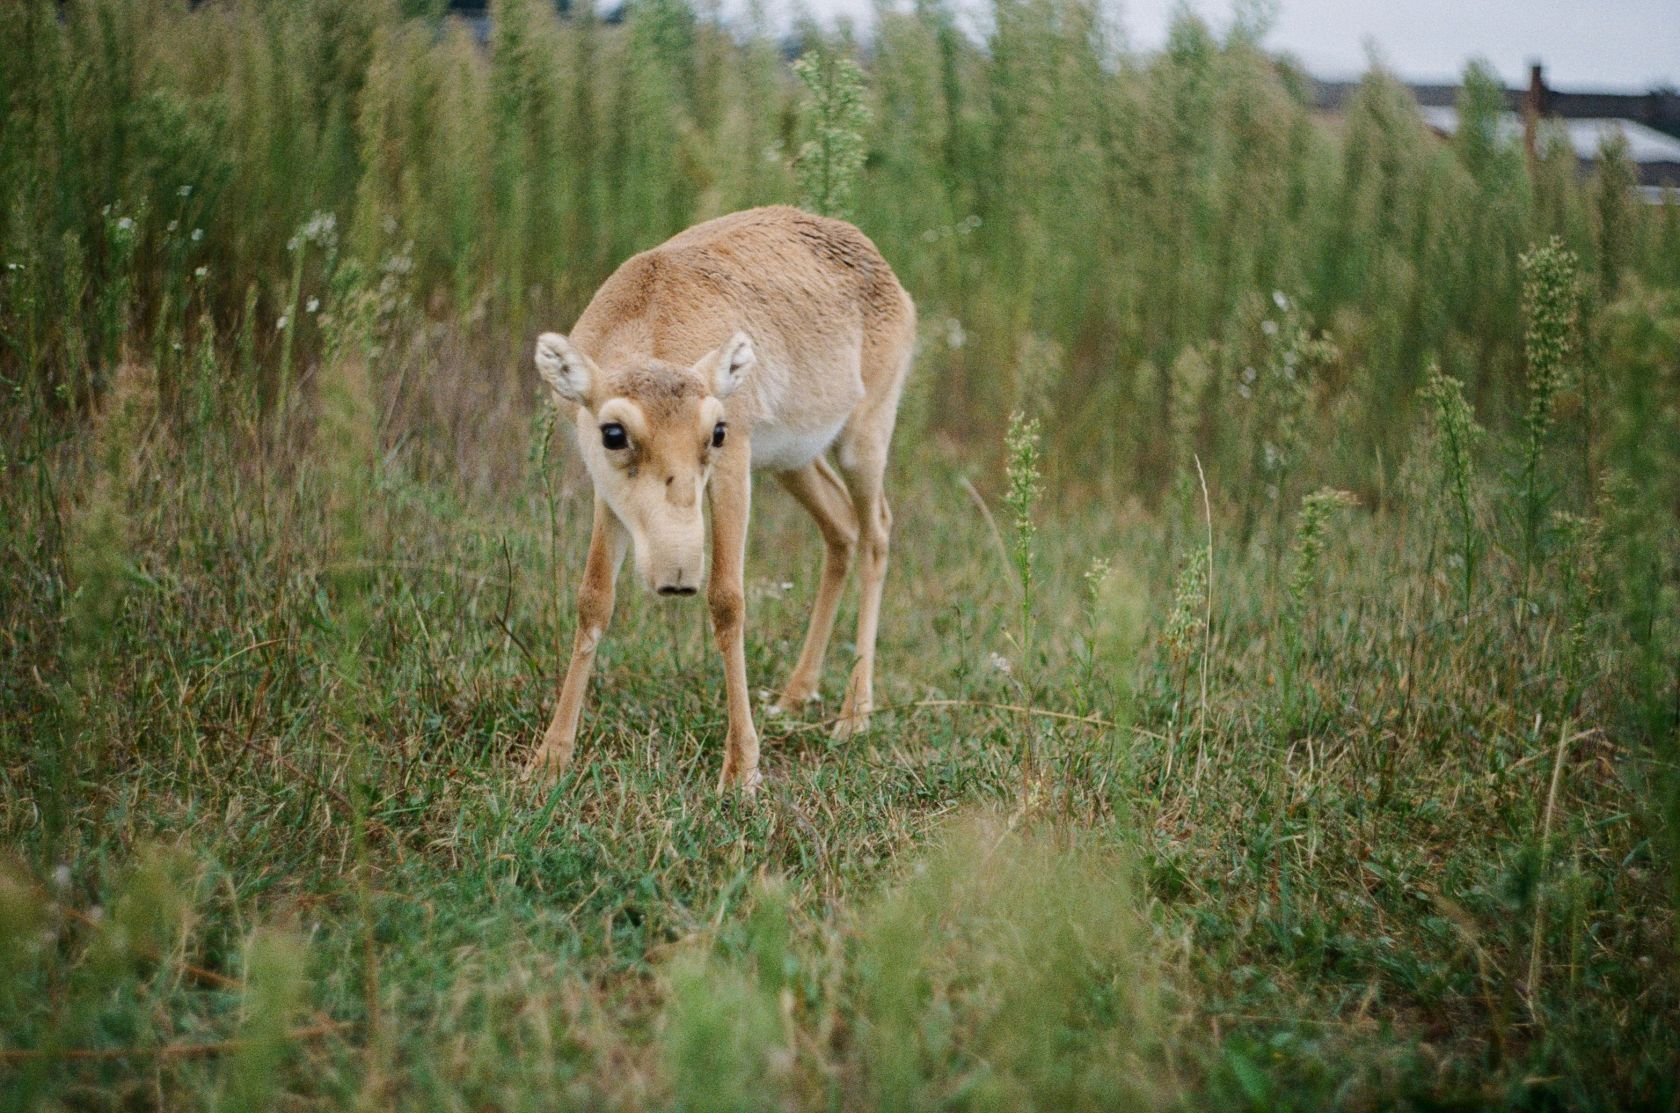saiga: (498, 212, 937, 802)
